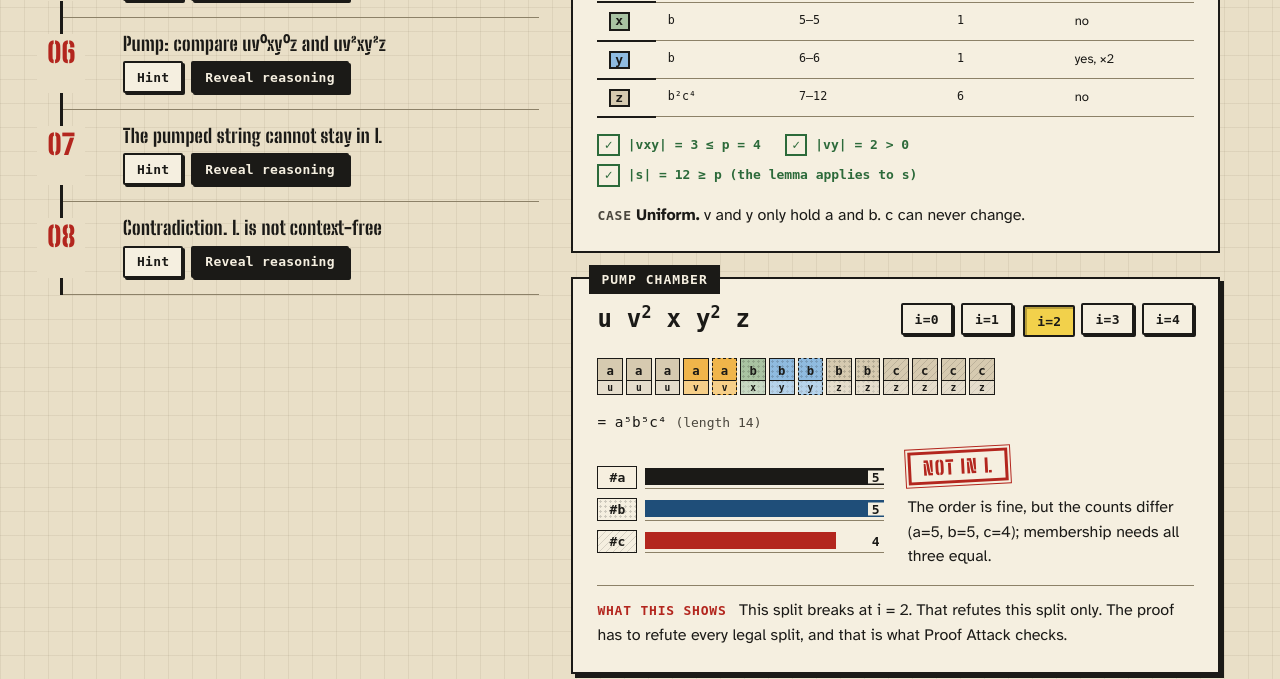
Test case: Pumping Paradox page › pumping exponent updates the pumped string and verdict
(page scrolled)
Click the button "i=1".
click(987, 319)  # box [961,303,1013,335]
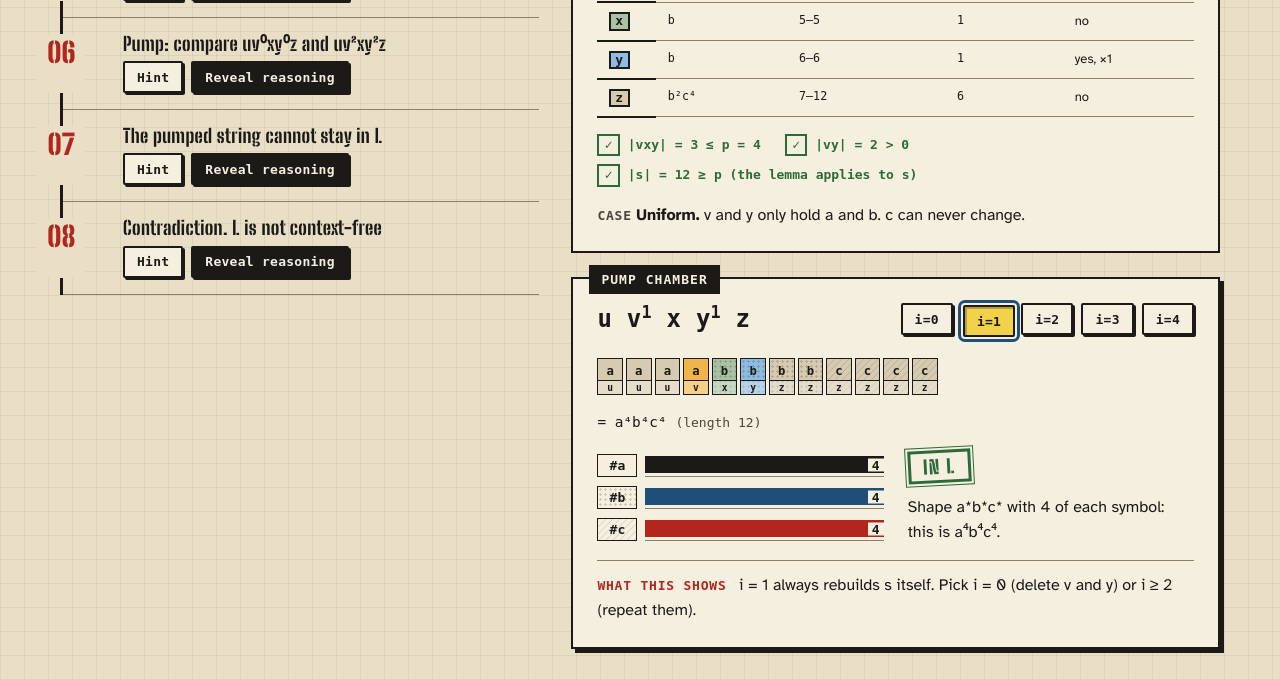
Check: the text "i = 1 always rebuilds s itself" is shown, box [597,575,1172,620]
Click the button "i=0".
click(927, 319)  # box [901,303,953,335]
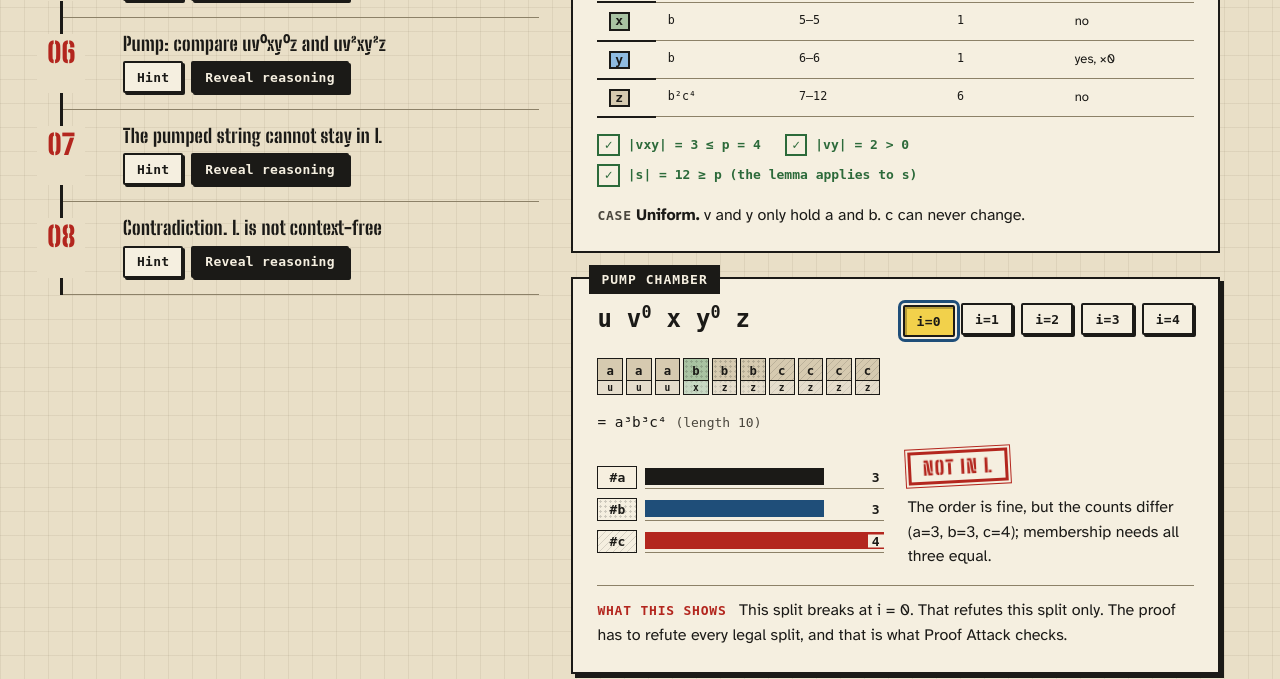
Check: the text "This split breaks at i = 0" is shown, box [597,600,1176,645]
